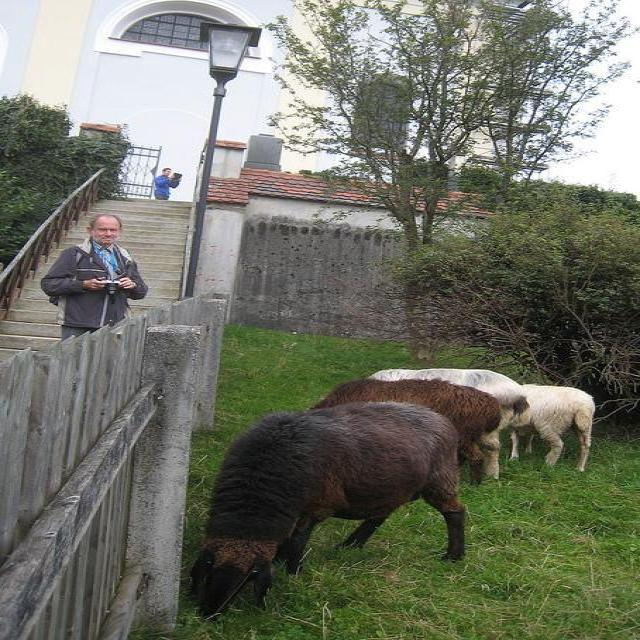Sheep: (189, 400, 469, 621), (371, 370, 531, 481), (327, 378, 499, 478), (509, 385, 596, 471)
